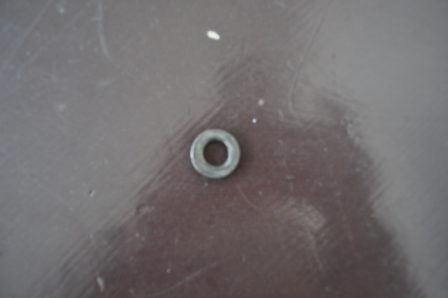METALIC WASHER: (189, 127, 242, 180)
